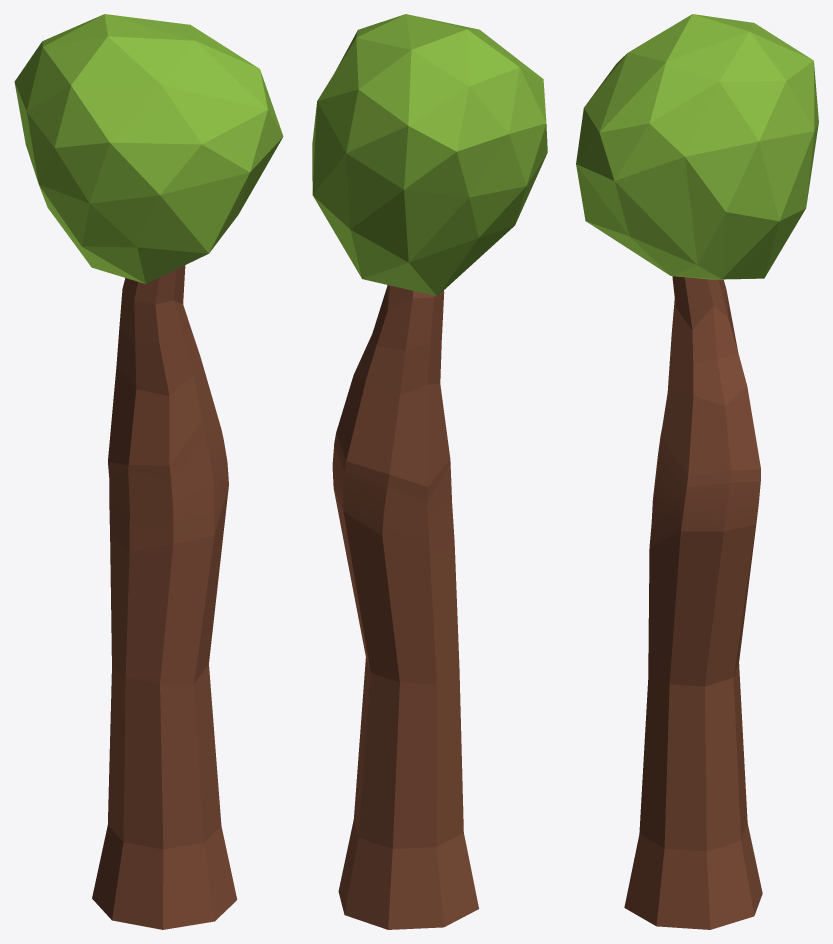
The model's file is Boom_1.fbx.
3 renders of one model, left to right at view 1: azimuth 30°, elevation 25°; view 2: azimuth 150°, elevation 25°; view 3: azimuth 270°, elevation 25°, orthographic. The views are drawn at different scales.
Parts seen in each view (by area): view 1: pasted__Mesh3; view 2: pasted__Mesh3; view 3: pasted__Mesh3.
Part boxes in pixels (x1=…): pasted__Mesh3: x1=14, y1=14, x2=283, y2=929; pasted__Mesh3: x1=312, y1=14, x2=547, y2=929; pasted__Mesh3: x1=576, y1=14, x2=818, y2=929.
Size of the model in its own units: 0.00938 by 0.0388 by 0.00995.
